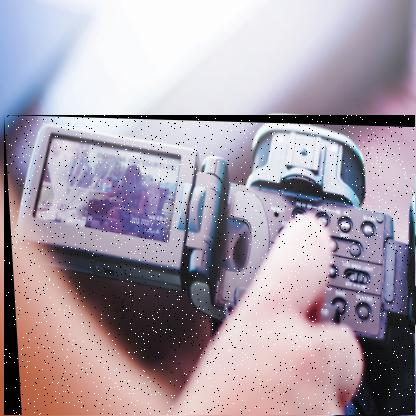Camera: (5, 116, 416, 416)
